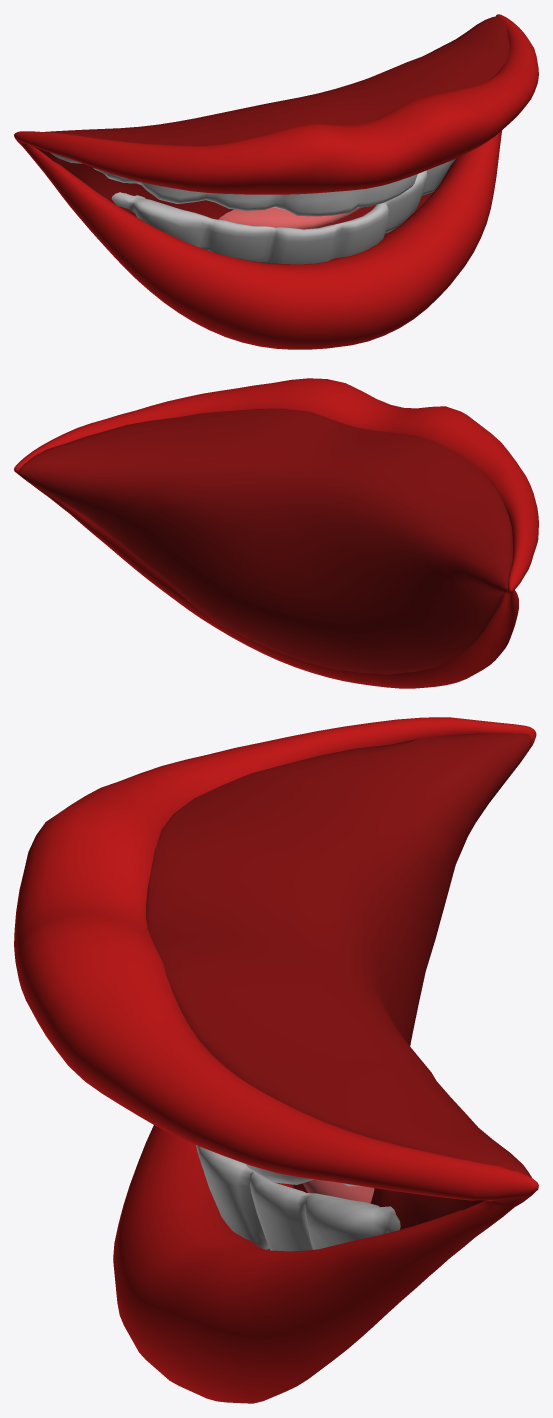
The model's file is mouth.fbx.
3 renders of one model, top to bottom at view 1: azimuth 30°, elevation 25°; view 2: azimuth 150°, elevation 25°; view 3: azimuth 270°, elevation 25°, orthographic. The views are drawn at different scales.
Parts seen in each view (by area): view 1: Object_5; view 2: Object_5; view 3: Object_5.
Boxes of the visible parts, x1,y1,x2,y2 form: Object_5: (14, 14, 538, 349); Object_5: (14, 378, 538, 688); Object_5: (14, 717, 538, 1403).
Size of the model in its own units: 577 by 283 by 280.
Materials: 1 (1 with a texture image).
